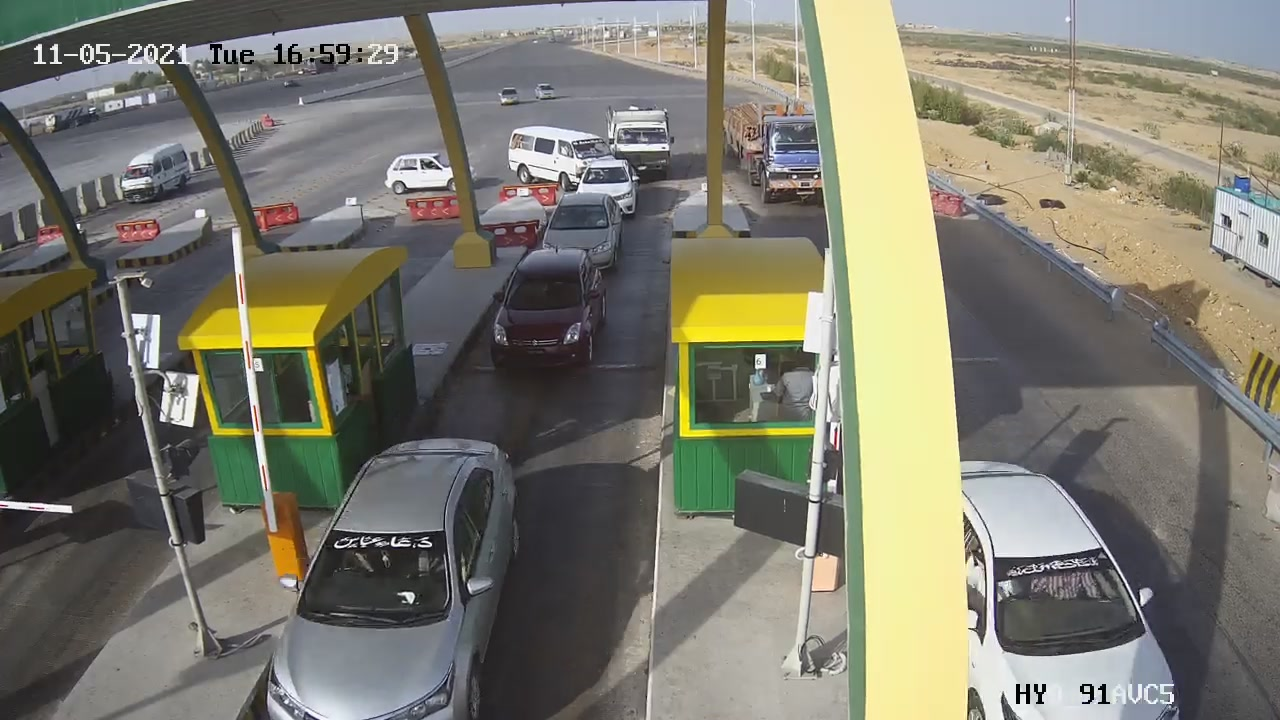F1: (481, 236, 626, 379), (523, 180, 640, 281)
